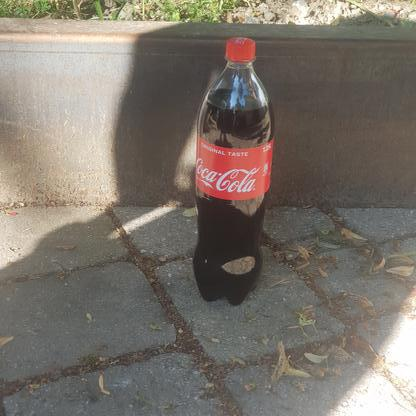coca-cola: (191, 32, 276, 308)
